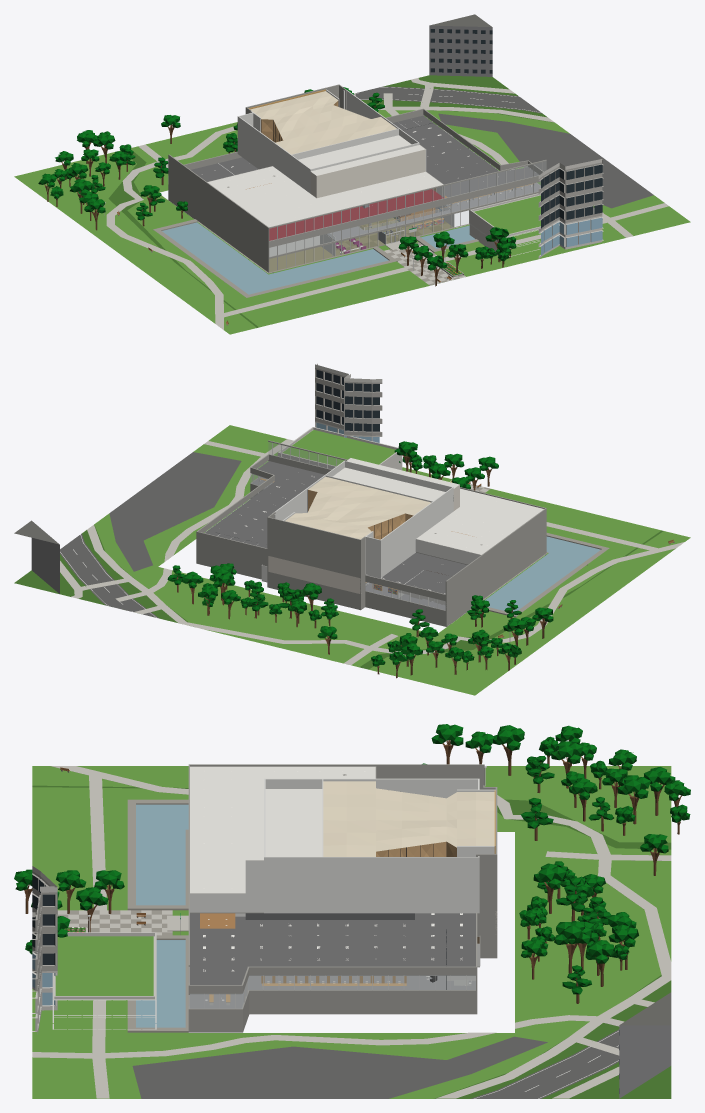
The model's file is library.fbx.
The picture shows the model from 3 angles, top to bottom: view 1: azimuth 30°, elevation 25°; view 2: azimuth 150°, elevation 25°; view 3: azimuth 270°, elevation 25°; orthographic projection. The views are drawn at different scales.
Visible parts, largest first — view 1: ext_library, wall_library, furn_library_13_hallshell, ext_library_trees, floor_library; view 2: ext_library, wall_library, furn_library_13_hallshell, ext_library_trees, floor_library; view 3: ext_library, wall_library, furn_library_13_hallshell, ext_library_trees, floor_library, furn_library_06_stacks.
Part boxes in pixels (x1,y1,x2,y2): ext_library: [14, 14, 690, 334]; wall_library: [168, 84, 546, 272]; furn_library_13_hallshell: [237, 89, 419, 193]; ext_library_trees: [38, 87, 516, 286]; floor_library: [269, 183, 540, 272]; ext_library: [14, 363, 690, 695]; wall_library: [196, 440, 546, 626]; furn_library_13_hallshell: [272, 460, 453, 577]; ext_library_trees: [167, 441, 553, 678]; floor_library: [252, 477, 467, 610]; ext_library: [32, 766, 671, 1098]; wall_library: [188, 764, 497, 1032]; furn_library_13_hallshell: [264, 778, 495, 913]; ext_library_trees: [14, 724, 690, 1003]; floor_library: [190, 912, 479, 1008]; furn_library_06_stacks: [261, 976, 437, 988].
Bounding box in the file's own units: 154 × 26.42 × 130.
